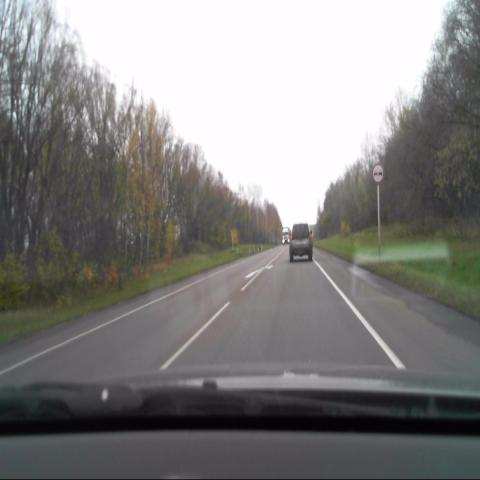3_20: (372, 163, 384, 184)
